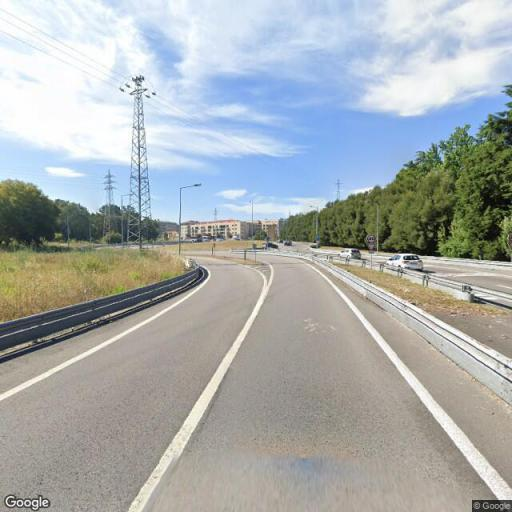ss_1: (122, 72, 158, 242)
ss_3: (101, 167, 119, 244)
